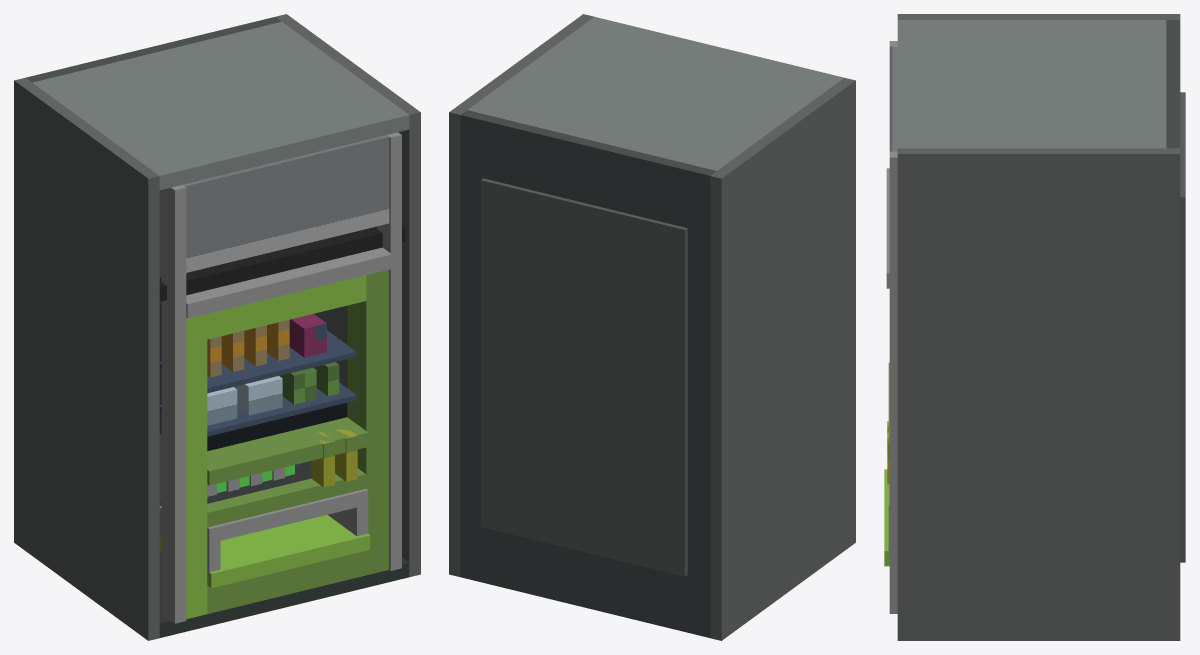
The model's file is CMU3DVendorNutrientsCloud.glb.
3 renders of one model, left to right at view 1: azimuth 30°, elevation 25°; view 2: azimuth 150°, elevation 25°; view 3: azimuth 270°, elevation 25°, orthographic. The views are drawn at different scales.
Parts seen in each view (by area): view 1: left full depth chassis, solid roof, plain gray header original detail, left silver rail, right full depth chassis, lime right door stile, lime left door stile, pickup bottom tray, right silver rail, control green shelf, silver upper door rail, header lower black reveal (+16 smaller); view 2: rear removable cover, left full depth chassis, rear enclosed shell, solid roof, right full depth chassis; view 3: right full depth chassis, solid roof, right silver rail, rear removable cover, rear enclosed shell, left full depth chassis, plain gray header, pickup bottom tray, silver upper door rail, left silver rail.
Part boxes in pixels (x1,y1,x2,y2): left full depth chassis: (14, 77, 159, 640); solid roof: (32, 21, 409, 190); plain gray header original detail: (185, 136, 389, 272); left silver rail: (161, 185, 186, 623); right full depth chassis: (275, 14, 420, 577); lime right door stile: (347, 269, 388, 575); lime left door stile: (186, 314, 207, 619); pickup bottom tray: (159, 515, 370, 588); right silver rail: (377, 132, 401, 570); control green shelf: (207, 417, 368, 485); silver upper door rail: (186, 247, 391, 318); header lower black reveal: (159, 225, 405, 301); rear removable cover: (480, 178, 687, 576); left full depth chassis: (710, 77, 855, 640); rear enclosed shell: (460, 110, 716, 637); solid roof: (467, 17, 843, 170); right full depth chassis: (449, 14, 594, 577); right full depth chassis: (897, 148, 1180, 640); solid roof: (897, 20, 1166, 148); right silver rail: (889, 151, 897, 613); rear removable cover: (1180, 92, 1185, 562); rear enclosed shell: (1166, 20, 1180, 148); left full depth chassis: (897, 14, 1180, 19); plain gray header: (893, 46, 897, 151); pickup bottom tray: (884, 469, 889, 566); silver upper door rail: (886, 168, 889, 288); left silver rail: (889, 41, 897, 151).
Bounding box in the file's own units: 0.75 × 1.22 × 0.682.
Materials: 28 (7 with a texture image).
